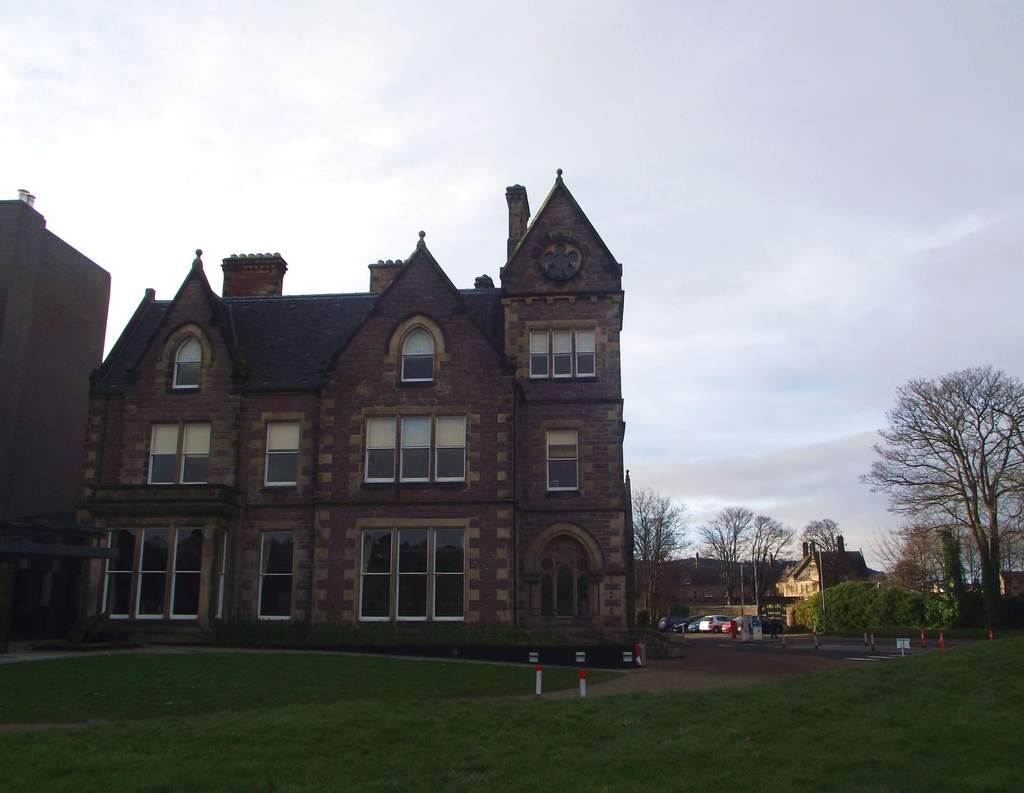Tree: (852, 359, 1023, 629), (776, 575, 950, 644), (692, 506, 797, 574), (611, 486, 688, 566), (792, 516, 841, 558)
